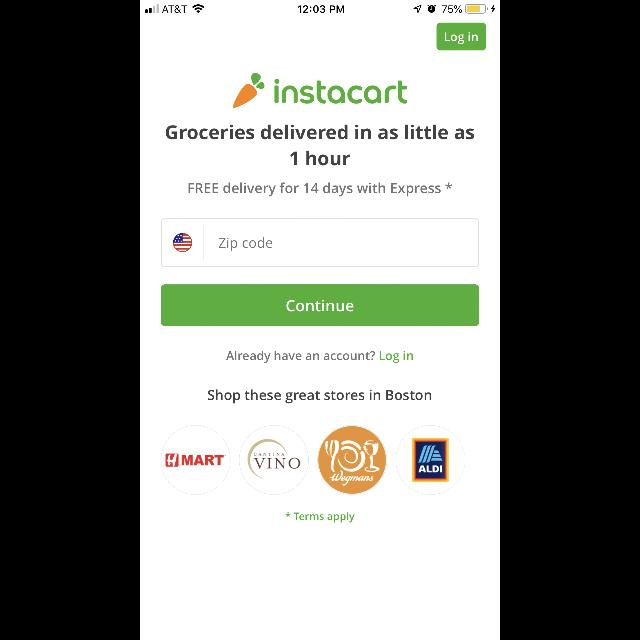image: (396, 425, 466, 495), (317, 425, 387, 495), (239, 425, 309, 495), (161, 425, 231, 495), (233, 74, 264, 108), (174, 234, 192, 252)
input: (161, 219, 479, 267)
text: (166, 124, 474, 166), (188, 183, 452, 197), (274, 80, 408, 104), (208, 389, 432, 403), (226, 351, 414, 363), (220, 237, 272, 251), (286, 512, 354, 522)
textbutton: (161, 284, 479, 326), (436, 23, 486, 51)
uppertaskbar: (140, 0, 500, 14)
